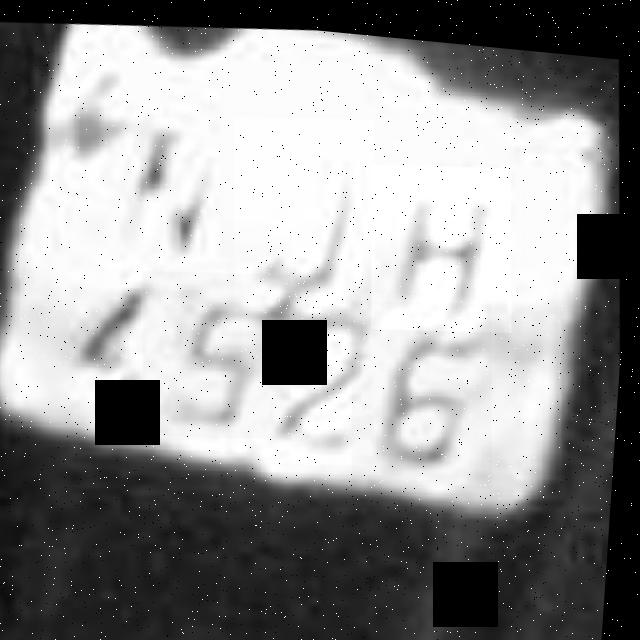2: (237, 274, 403, 468)
5: (137, 257, 304, 443)
6: (345, 283, 508, 488)
H: (364, 147, 524, 331)
J: (225, 102, 389, 318)
